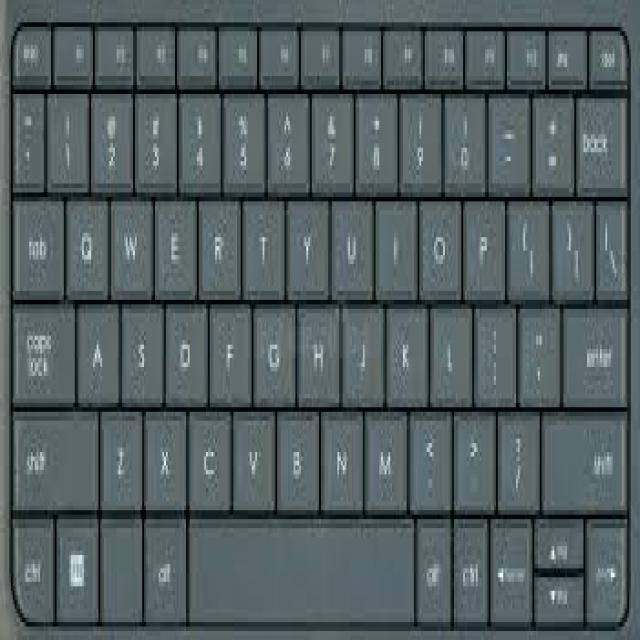others: (2, 4, 640, 636)
